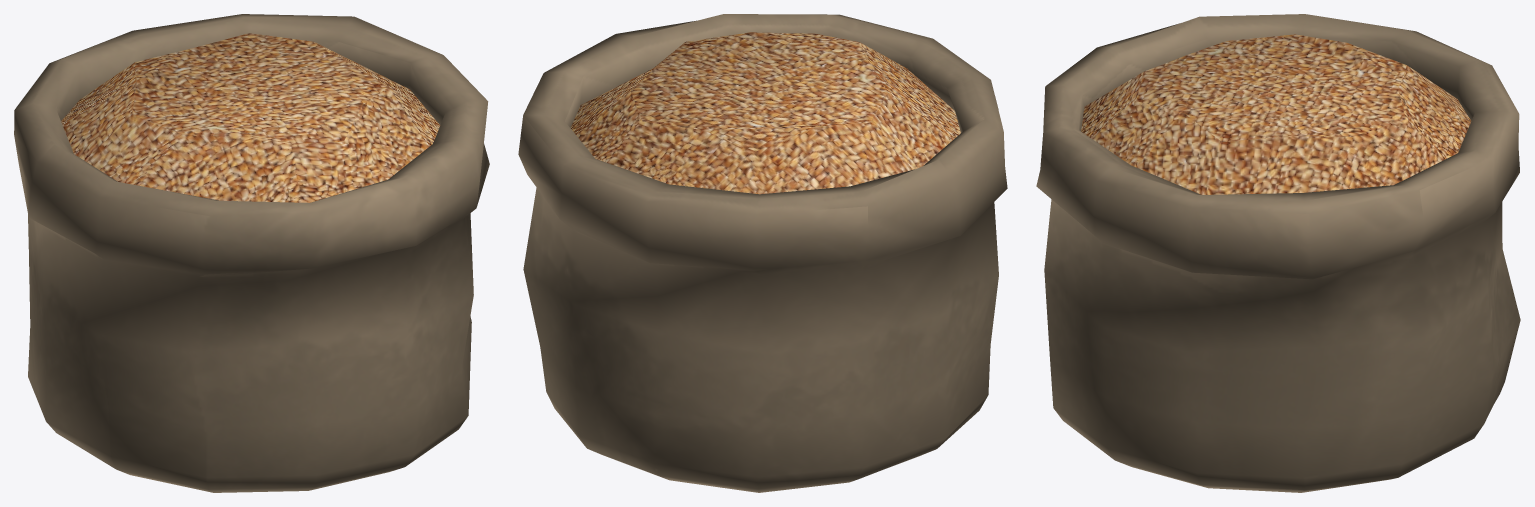
Rendered from wheat_sack.glb.
3 renders of one model, left to right at view 1: azimuth 30°, elevation 25°; view 2: azimuth 150°, elevation 25°; view 3: azimuth 270°, elevation 25°, orthographic.
Parts seen in each view (by area): view 1: wheat_sack; view 2: wheat_sack; view 3: wheat_sack.
Part boxes in pixels (x1=…): wheat_sack: x1=14, y1=14, x2=489, y2=492; wheat_sack: x1=518, y1=14, x2=1007, y2=492; wheat_sack: x1=1036, y1=14, x2=1520, y2=492.
Size of the model in its own units: 0.531 by 0.4005 by 0.5322.
2 materials, 2 textured.
